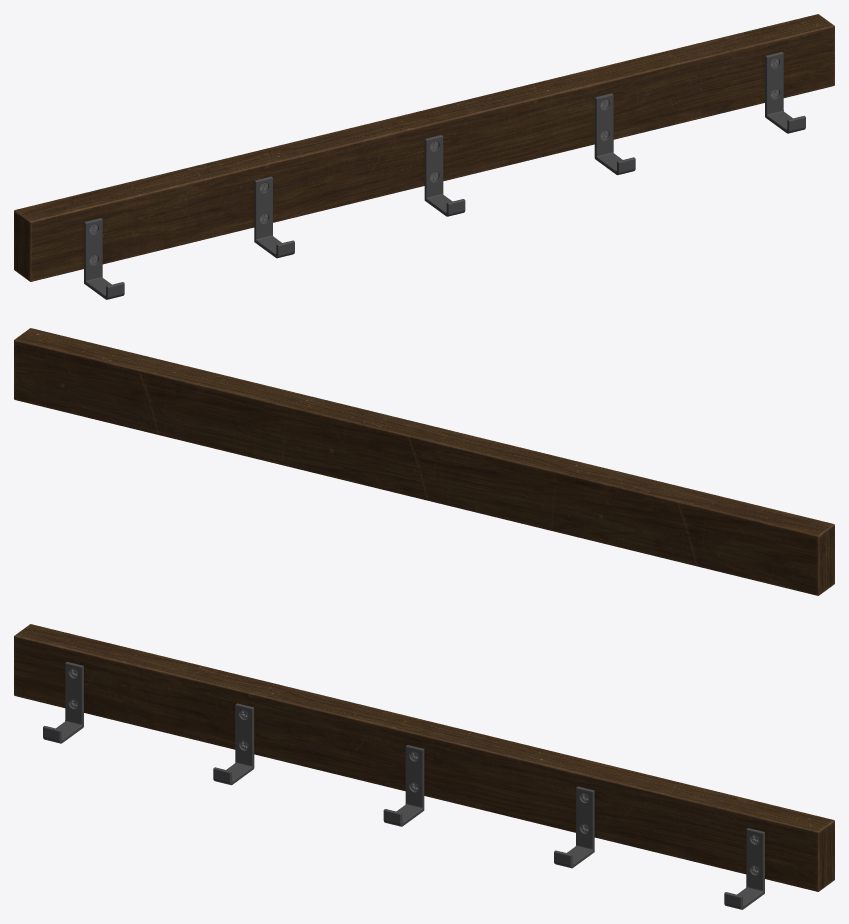
The model's file is hook_1.fbx.
3 views of the same model, one above another, from view 1: azimuth 30°, elevation 25°; view 2: azimuth 150°, elevation 25°; view 3: azimuth 330°, elevation 25° (orthographic).
Parts seen in each view (by area): view 1: hook_01; view 2: hook_01; view 3: hook_01.
Boxes of the visible parts, bbox=[...] form: hook_01: bbox=[14, 14, 834, 299]; hook_01: bbox=[14, 328, 834, 595]; hook_01: bbox=[14, 624, 834, 909].
Size of the model in its own units: 69.96 by 6.2 by 6.16.
